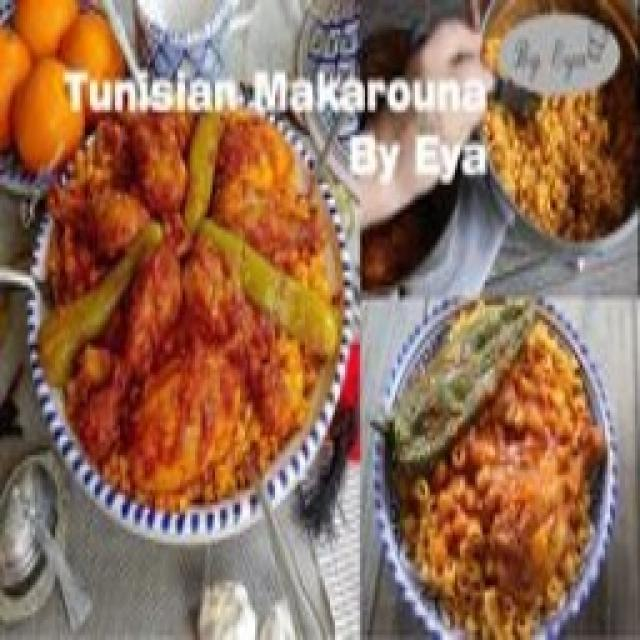Pasta: (41, 114, 338, 509), (395, 301, 605, 640), (486, 84, 632, 237)
